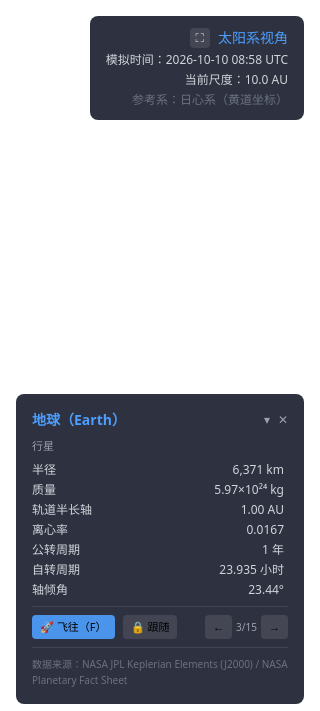
it: HudInfo 信息面板收起/展开 › 点击收起：隐藏数据来源行，保留标题与飞往/跟随按钮，按钮切换为展开
Click the button named "收起信息面板内容" at (267,420), box [264,412,270,428]
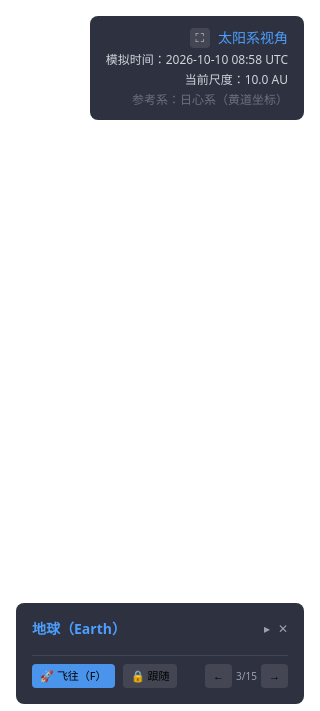
Check: the heading "地球（Earth）" is shown, box [32,619,126,639]
Check: the text "数据来源：" is gone
Check: the button named "展开信息面板内容" is collapsed
再次点击恢复展开
Click the button named "展开信息面板内容" at (267,629), box [264,621,270,637]
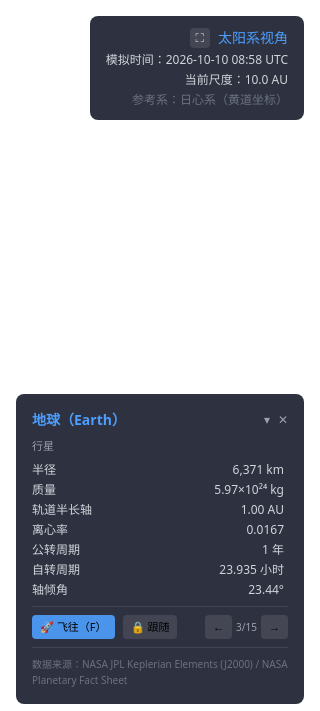
Check: the text "数据来源：" is shown, box [32,657,288,687]
